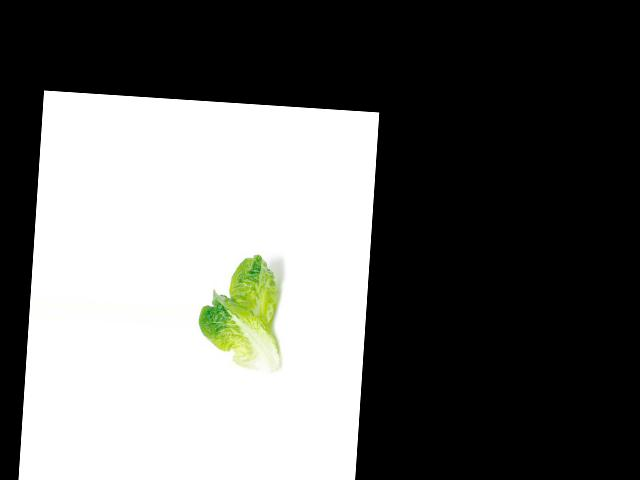lettuce: (198, 253, 287, 372)
